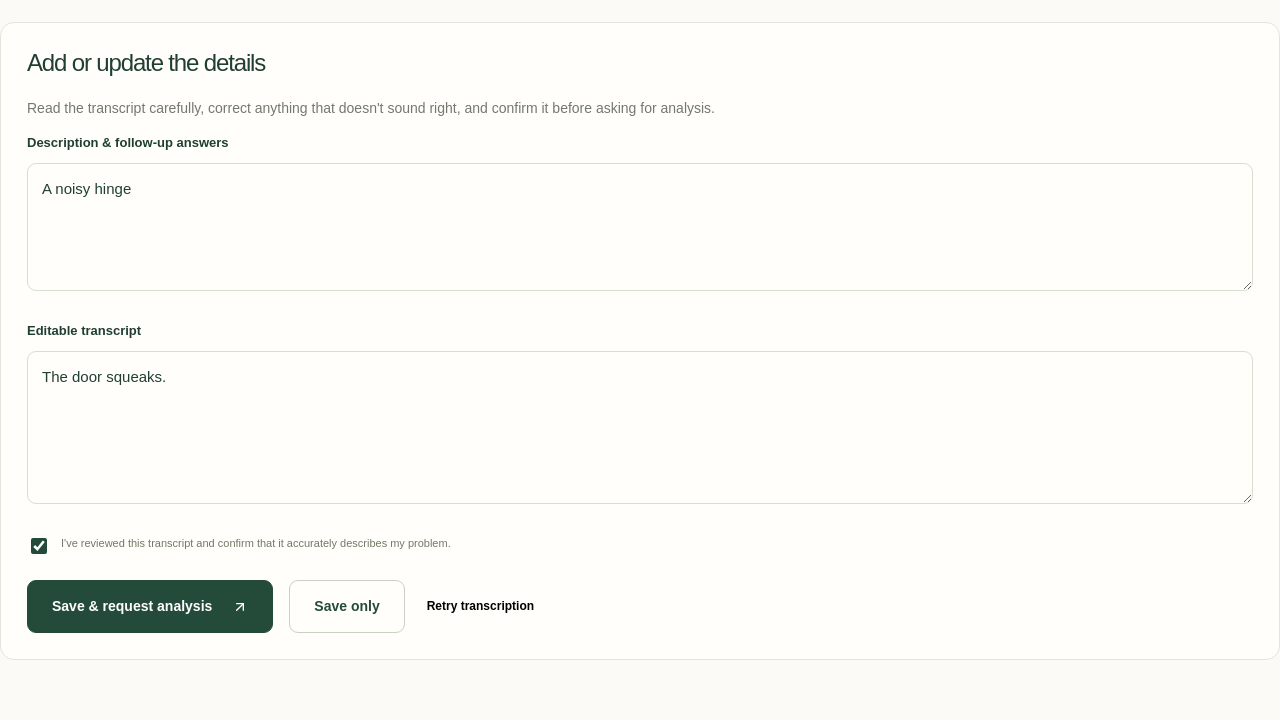
Scenario: transcript confirmation › invalidates confirmation when the transcript changes
The width and height of the screenshot is (1280, 720).
Expected: the checkbox is checked, 31,538 -> 47,554
Replace the text in the text box labelled "Editable transcript" with "Corrected description" at [640, 427], box 27,351 -> 1253,504
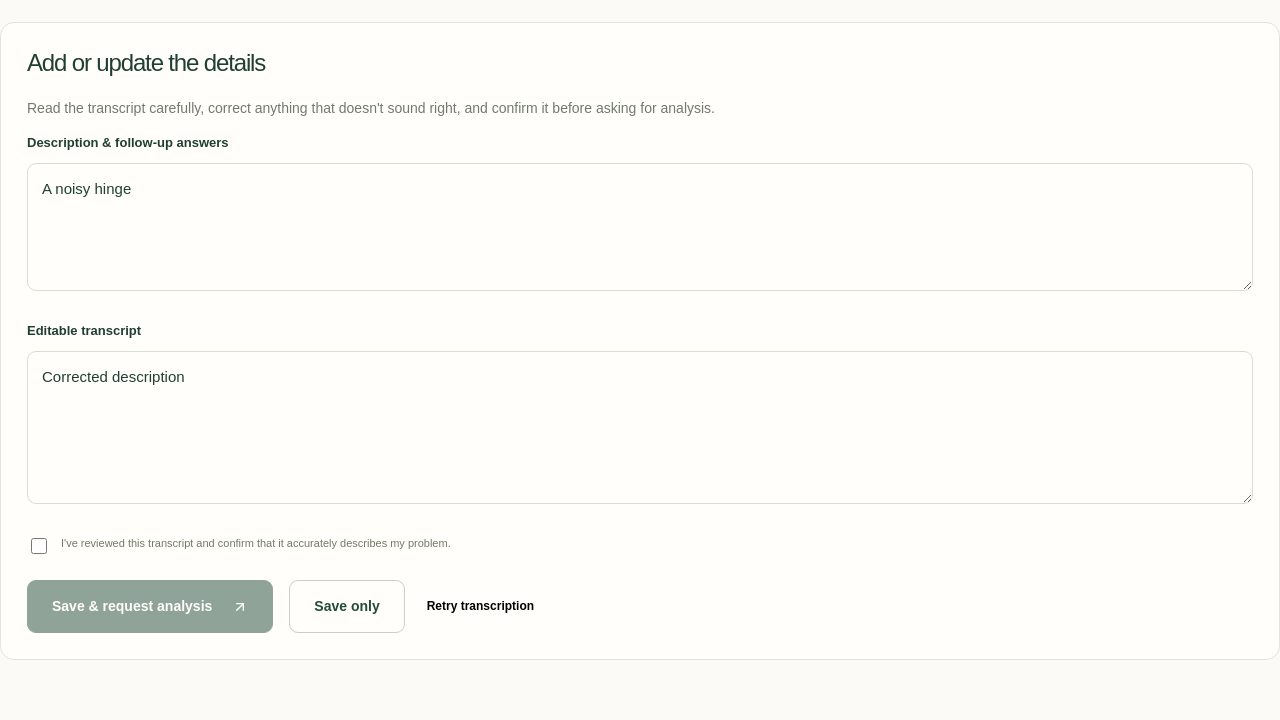
Result: the checkbox is not checked at 31,538 -> 47,554
Result: the button "Save & request analysis" is disabled at 27,580 -> 273,633
